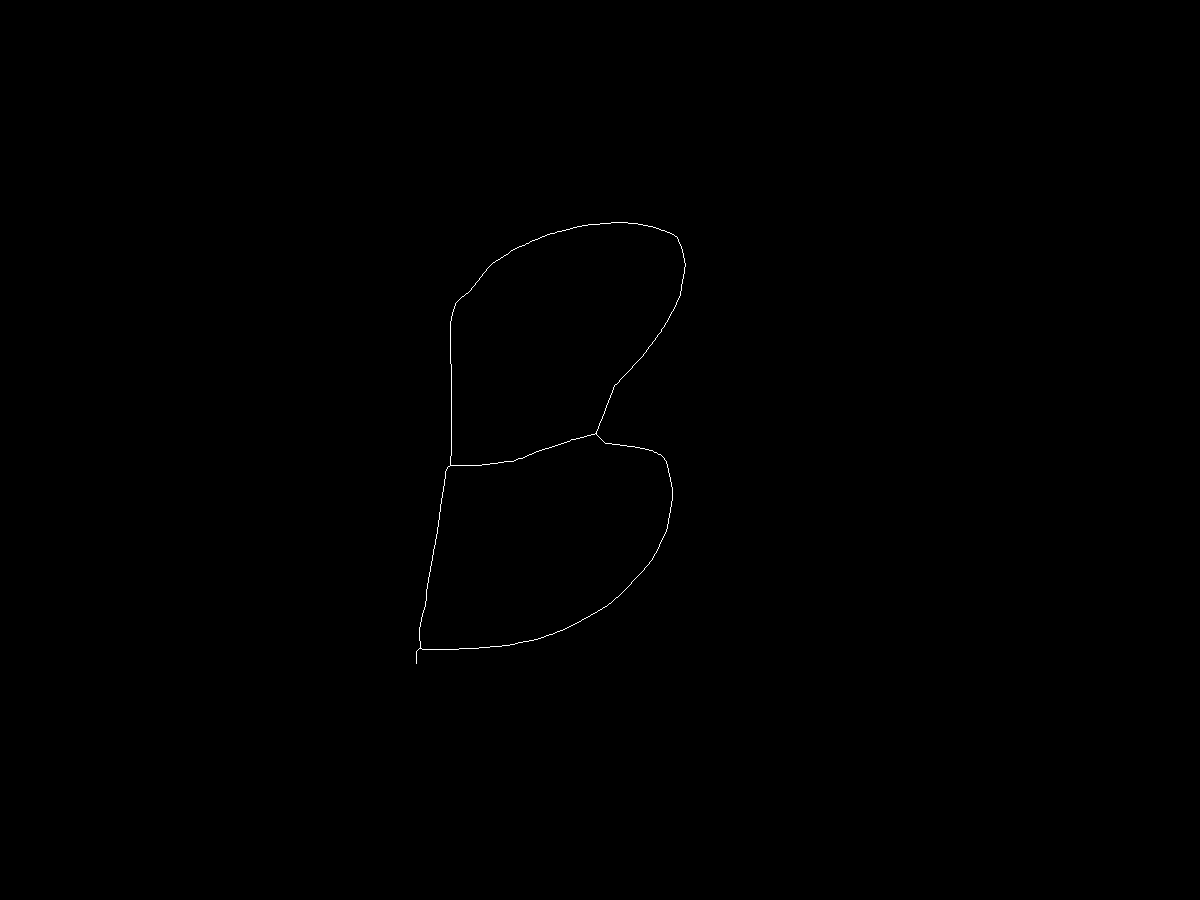dian1: (449, 288, 469, 308)
dian2: (439, 452, 458, 471)
dian3: (415, 642, 428, 655)
dian4: (581, 429, 594, 442)
